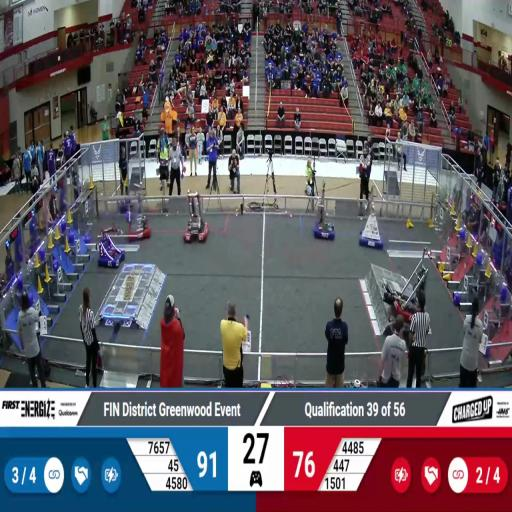robot: (380, 242, 432, 323), (181, 189, 211, 244), (360, 189, 384, 253), (312, 182, 337, 240), (95, 226, 127, 270), (128, 193, 152, 240)
